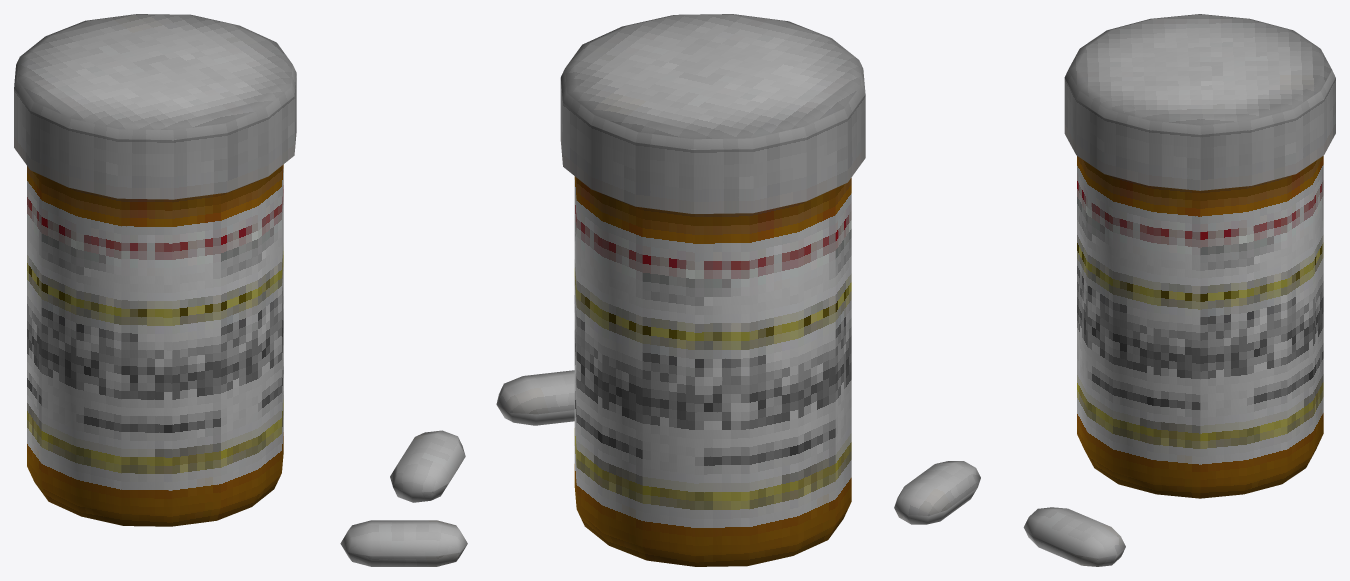
The model's file is pills_bottle_1_1.glb.
The picture shows the model from 3 angles, left to right: view 1: azimuth 30°, elevation 25°; view 2: azimuth 150°, elevation 25°; view 3: azimuth 270°, elevation 25°; orthographic projection. The views are drawn at different scales.
Parts seen in each view (by area): view 1: pills_bottle_1_1; view 2: pills_bottle_1_1; view 3: pills_bottle_1_1.
Part boxes in pixels (<box>): pills_bottle_1_1: <box>14,14,467,566</box>; pills_bottle_1_1: <box>496,14,865,566</box>; pills_bottle_1_1: <box>894,14,1335,566</box>.
Bounding box in the file's own units: 0.1259 × 0.1333 × 0.1354.
Materials: 1 (1 with a texture image).
